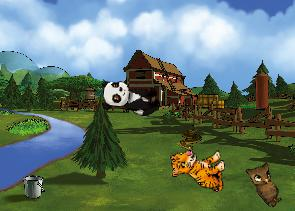owl: (241, 156, 292, 209)
panda: (99, 78, 162, 117)
tiger: (169, 145, 228, 196)
